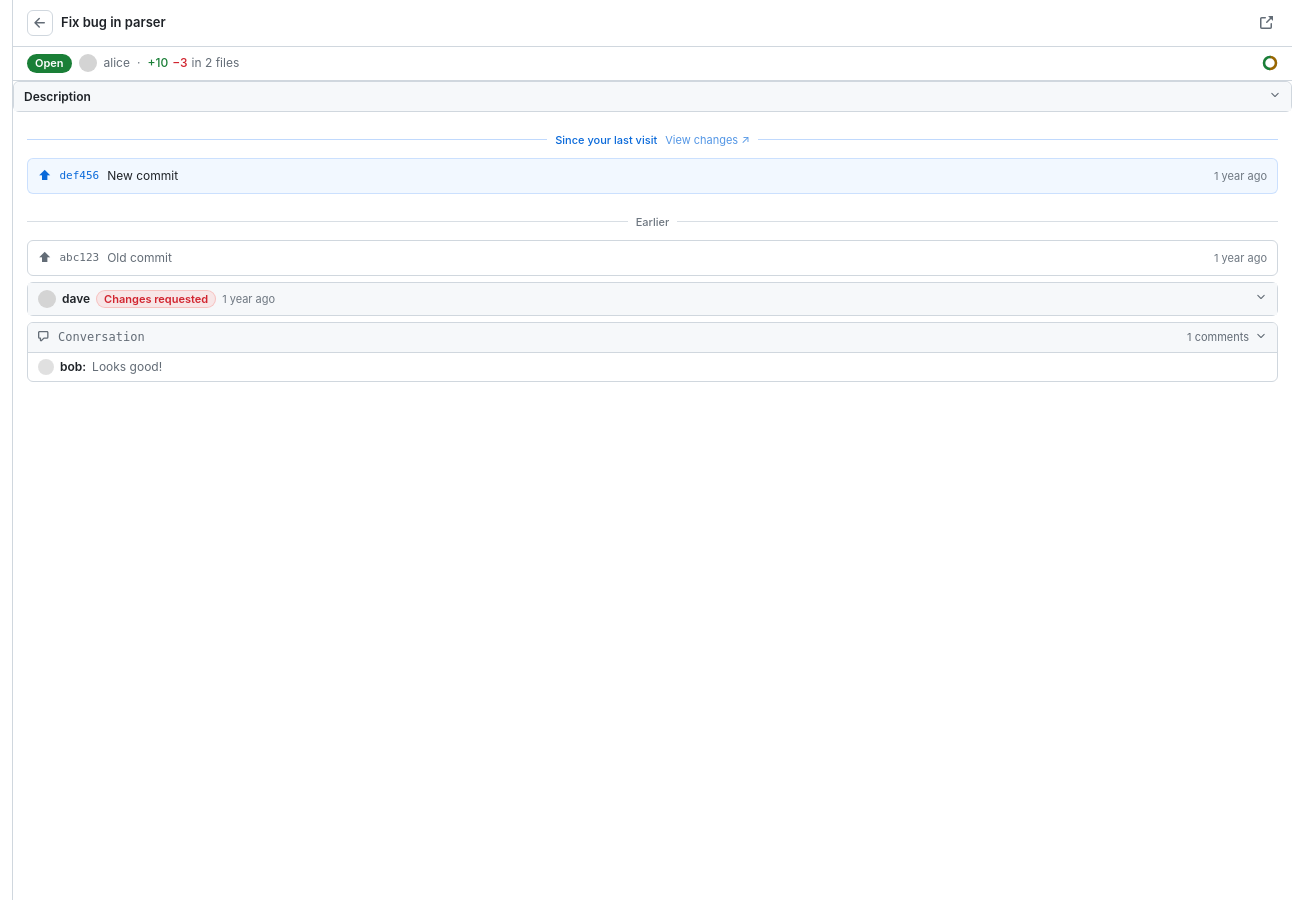
Scenario: PrDetail — reviews › expands and collapses the review body on header click
Click the button with class "review-thread-header" at x=156, y=298, box [28, 282, 1277, 314]
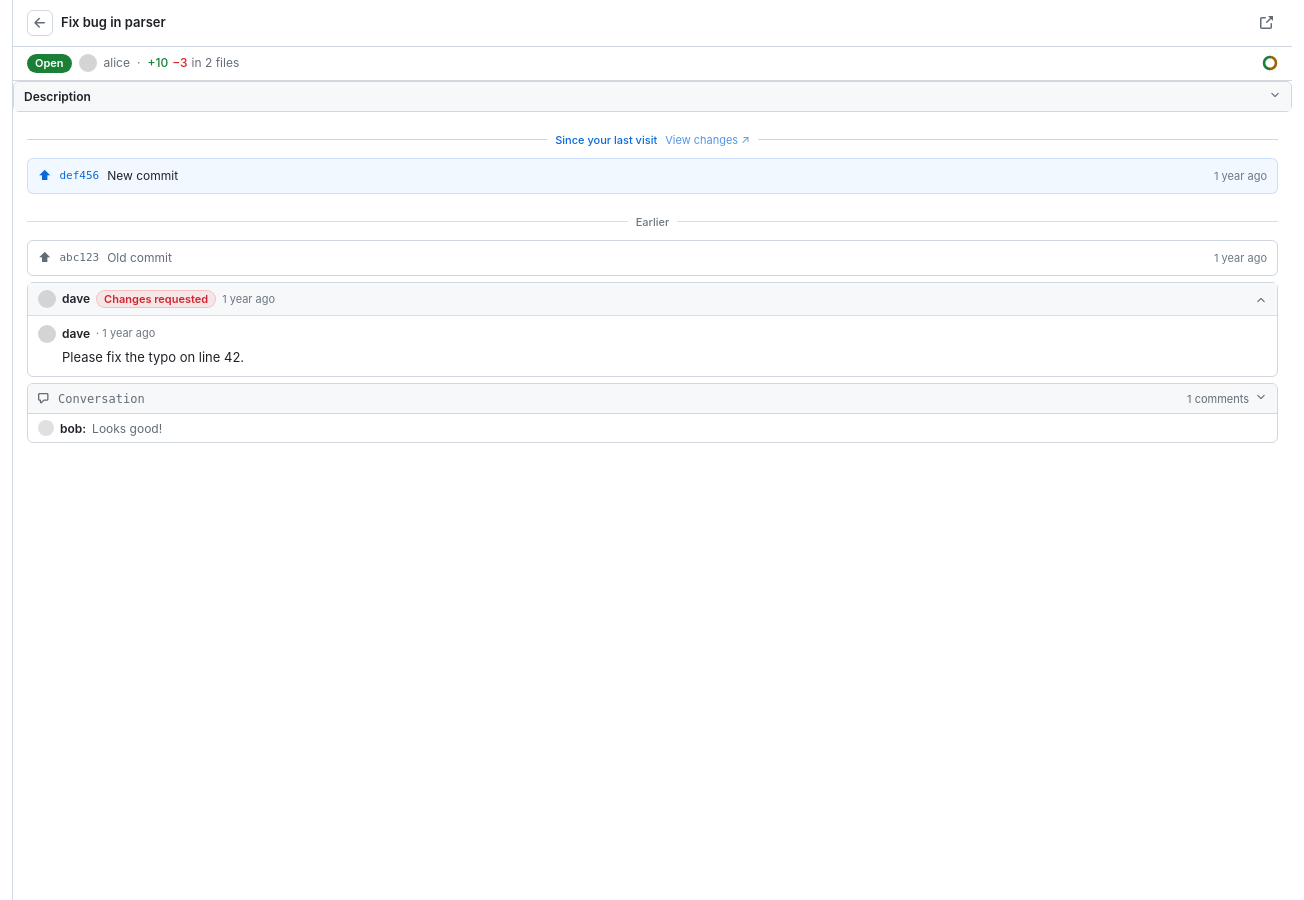
Expected: the element with class "open" is shown, [1255, 291, 1267, 306]
Expected: the element with class "review-item" shows "Please fix the typo on line 42.", [28, 314, 1277, 376]
Click the button with class "review-thread-header" at x=156, y=298, box [28, 282, 1277, 314]
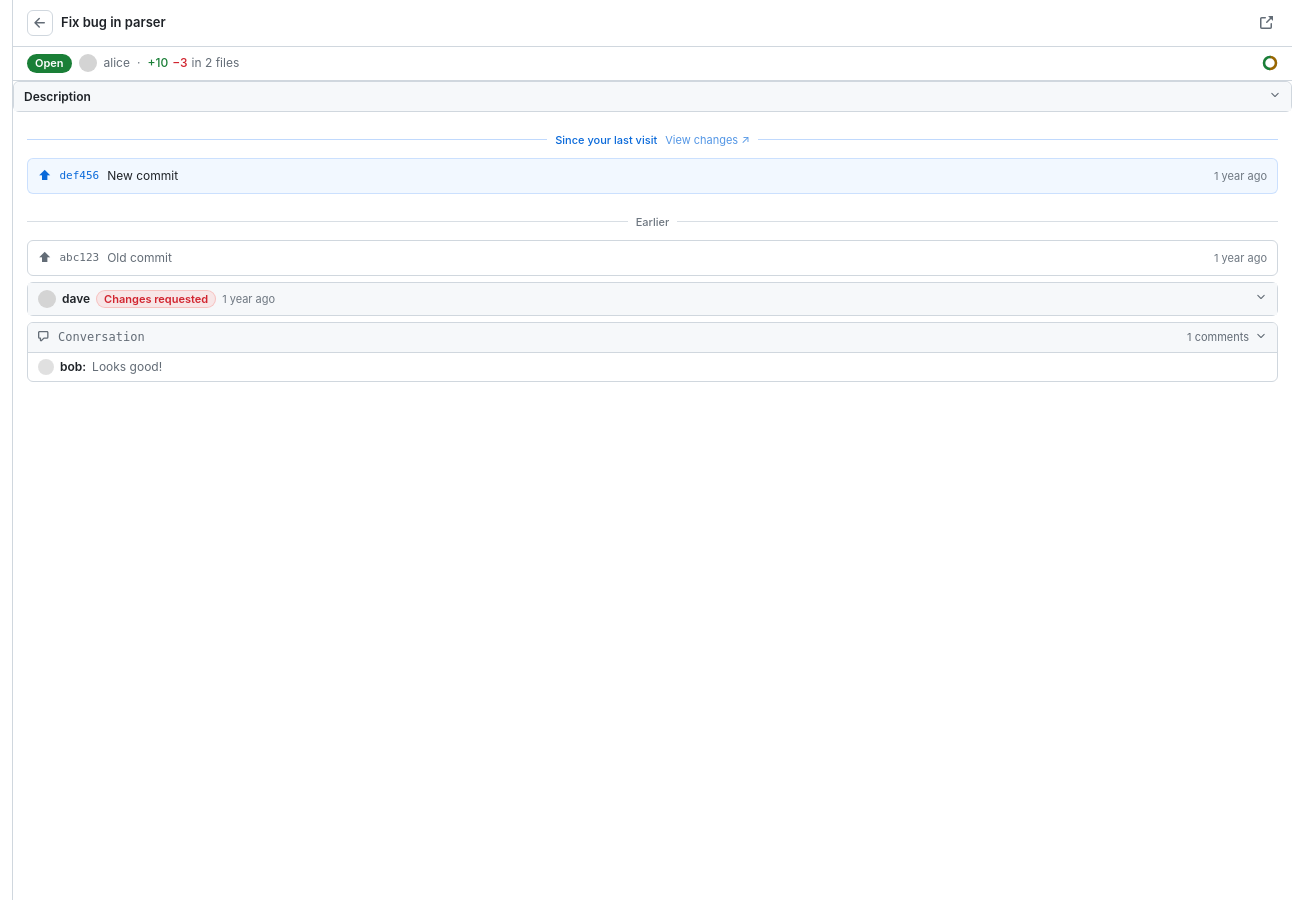
Expected: the link with class "review-comment" is gone
